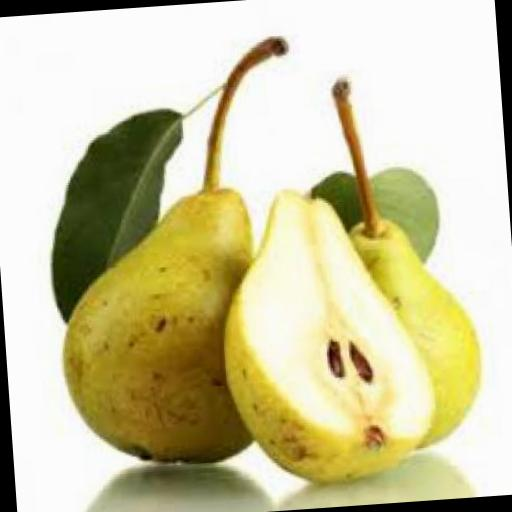biodegradable: (40, 33, 316, 473), (208, 175, 438, 490), (327, 66, 486, 452), (40, 108, 194, 325), (306, 164, 442, 274)
